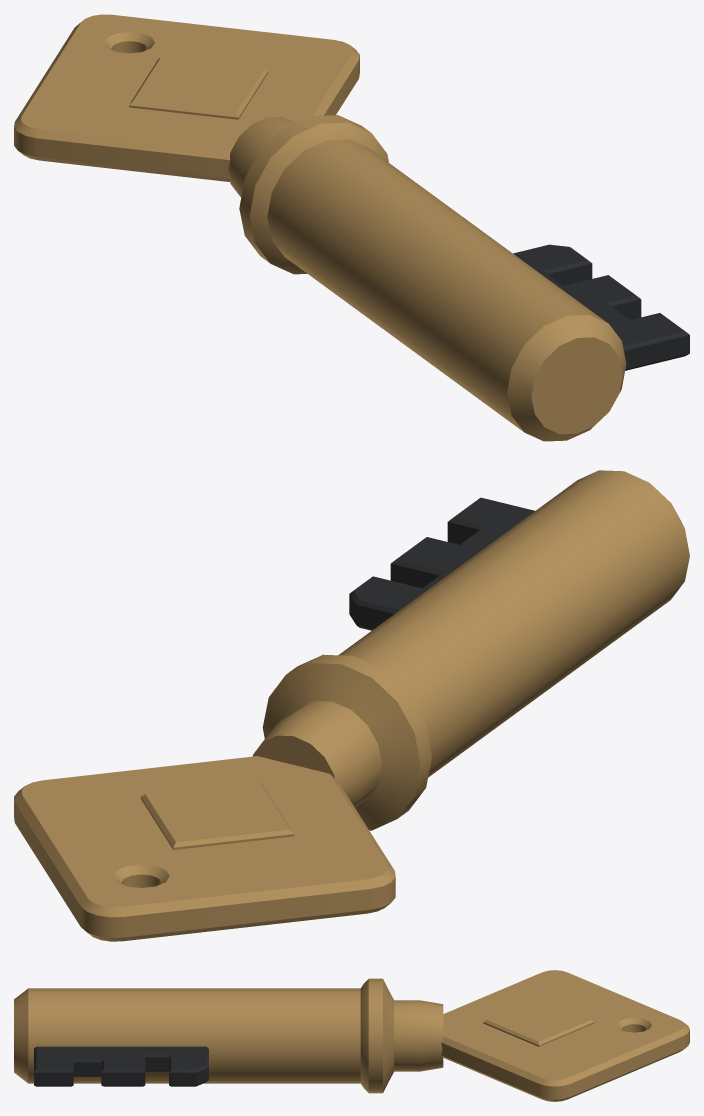
The model's file is key_diamond.glb.
3 views of the same model, one above another, from view 1: azimuth 30°, elevation 25°; view 2: azimuth 150°, elevation 25°; view 3: azimuth 270°, elevation 25° (orthographic). The views are drawn at different scales.
Visible parts, largest first — view 1: key_diamond, key_bit; view 2: key_diamond, key_bit; view 3: key_diamond, key_bit.
Boxes of the visible parts, left/top/right/bottom form: key_diamond: left=14, top=14, right=626, bottom=441; key_bit: left=513, top=244, right=689, bottom=370; key_diamond: left=14, top=470, right=689, bottom=941; key_bit: left=349, top=497, right=534, bottom=630; key_diamond: left=14, top=970, right=689, bottom=1101; key_bit: left=34, top=1046, right=208, bottom=1086.
Size of the model in its own units: 0.034 by 0.0144 by 0.085.
